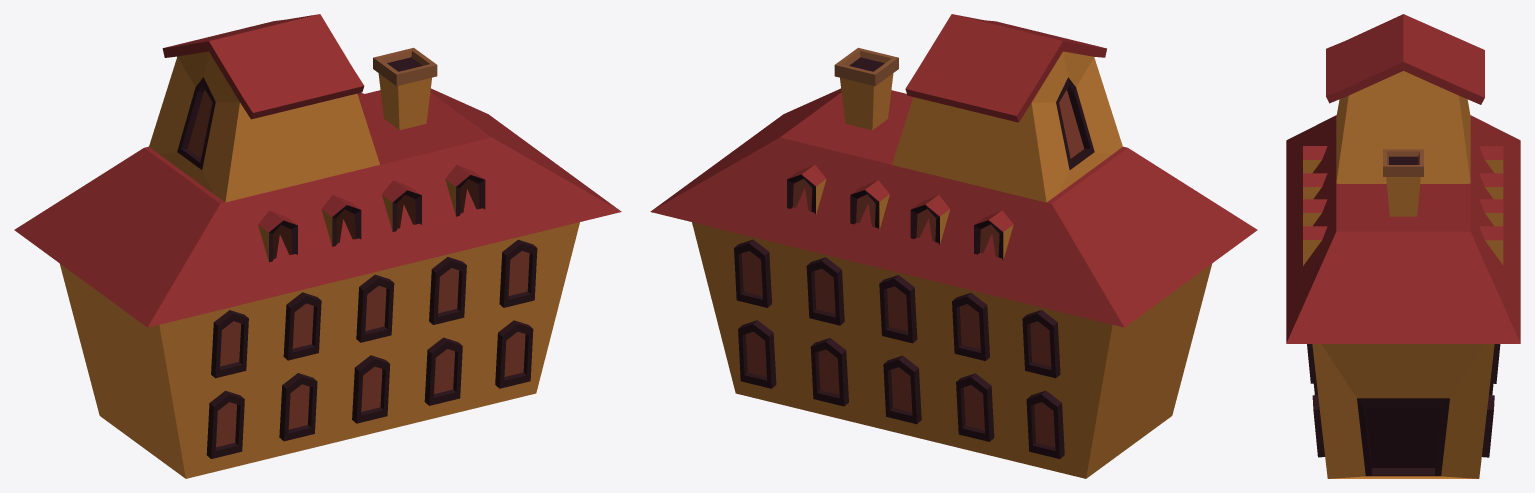
Rendered from house_2.fbx.
The picture shows the model from 3 angles, left to right: view 1: azimuth 30°, elevation 25°; view 2: azimuth 150°, elevation 25°; view 3: azimuth 270°, elevation 25°; orthographic projection. The views are drawn at different scales.
Parts seen in each view (by area): view 1: roof, house, house.001, window1.010, roof window.001, chimney.001; view 2: roof, house, house.001, window1.001, roof window.002, chimney.001; view 3: roof, house, house.001, chimney.001, roof window.002, roof window.001, window1.001, window1.010.
Boxes of the visible parts, bbox=[...] form: roof: bbox=[14, 88, 621, 327]; house: bbox=[59, 222, 579, 478]; house.001: bbox=[149, 14, 379, 202]; window1.010: bbox=[206, 239, 537, 458]; roof window.001: bbox=[258, 164, 485, 262]; chimney.001: bbox=[373, 47, 437, 130]; roof: bbox=[650, 88, 1257, 327]; house: bbox=[692, 222, 1212, 478]; house.001: bbox=[892, 14, 1122, 202]; window1.001: bbox=[734, 239, 1064, 458]; roof window.002: bbox=[787, 164, 1013, 260]; chimney.001: bbox=[834, 47, 898, 130]; roof: bbox=[1286, 115, 1520, 343]; house: bbox=[1312, 344, 1494, 478]; house.001: bbox=[1326, 14, 1484, 183]; chimney.001: bbox=[1383, 149, 1423, 216]; roof window.002: bbox=[1479, 146, 1503, 264]; roof window.001: bbox=[1303, 146, 1327, 265]; window1.001: bbox=[1482, 344, 1500, 457]; window1.010: bbox=[1307, 344, 1324, 457].
Bounding box in the file's own units: 518 × 407 × 252.
